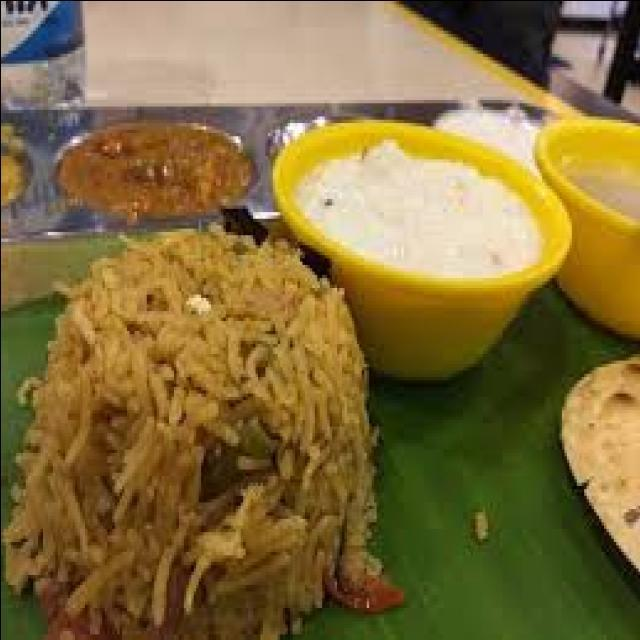roti: (14, 281, 215, 621), (57, 109, 257, 244)
sambar-rasam: (278, 103, 568, 316)
veg-fry: (54, 115, 259, 242)
